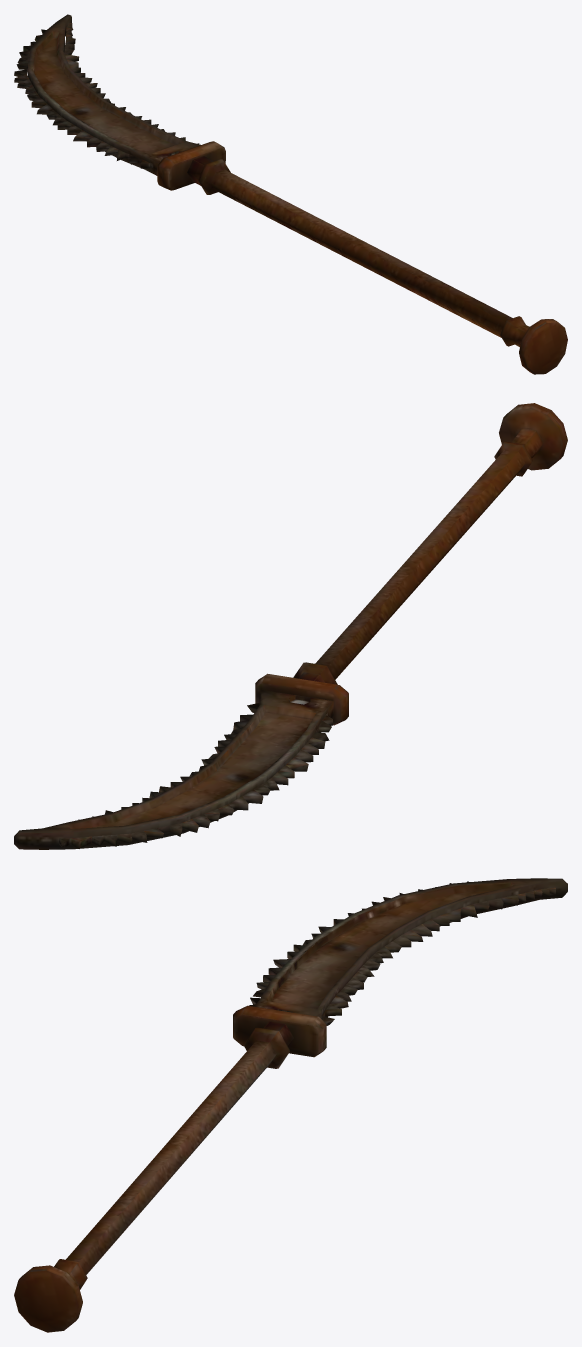
The model's file is g_glaive.fbx.
3 renders of one model, top to bottom at view 1: azimuth 30°, elevation 25°; view 2: azimuth 150°, elevation 25°; view 3: azimuth 330°, elevation 25°, orthographic. The views are drawn at different scales.
Parts seen in each view (by area): view 1: tripo_node_b7d2e169-f7b1-4708-825e-e6fbe3a295c5; view 2: tripo_node_b7d2e169-f7b1-4708-825e-e6fbe3a295c5; view 3: tripo_node_b7d2e169-f7b1-4708-825e-e6fbe3a295c5.
Part boxes in pixels (x1=…): tripo_node_b7d2e169-f7b1-4708-825e-e6fbe3a295c5: x1=14, y1=14, x2=567, y2=374; tripo_node_b7d2e169-f7b1-4708-825e-e6fbe3a295c5: x1=14, y1=403, x2=567, y2=849; tripo_node_b7d2e169-f7b1-4708-825e-e6fbe3a295c5: x1=14, y1=878, x2=567, y2=1332.
Bounding box in the file's own units: 0.4967 × 0.1495 × 2.33.
1 material, 1 textured.
